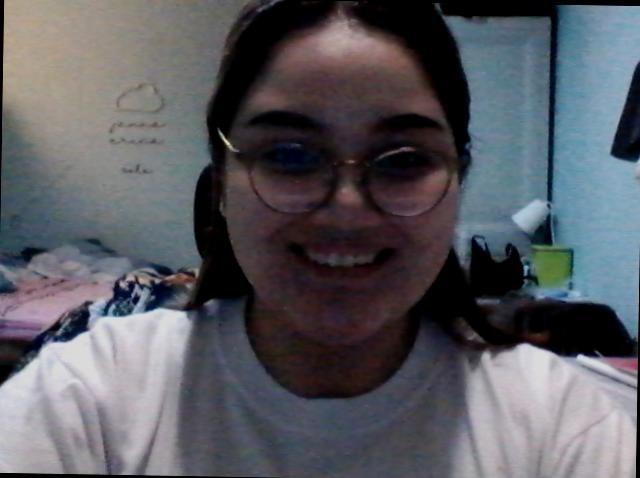senang: (217, 37, 470, 358)
